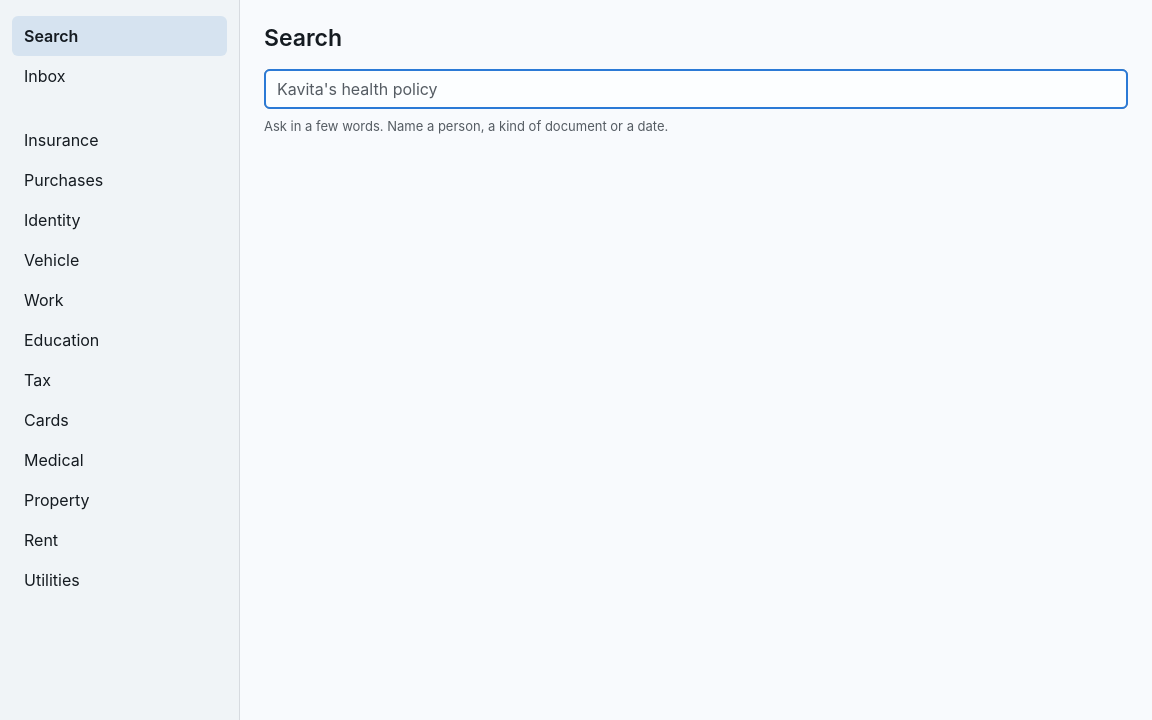
Scenario: the search screen › says so when nothing matches, and when the search fails
Type "zzz" into the dropdown named "Ask about your documents" at (696, 89), box [264,69,1128,109]
Wait 150 ms
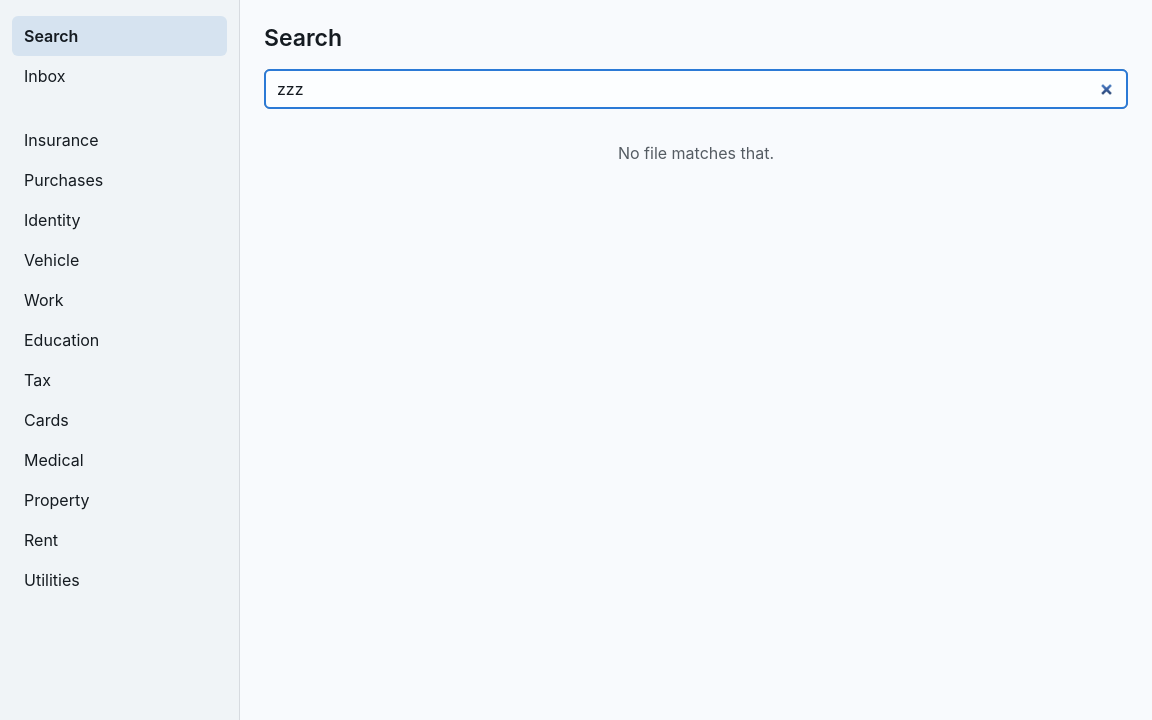
Now the text "No file matches that." is shown, box [618,143,774,163]
